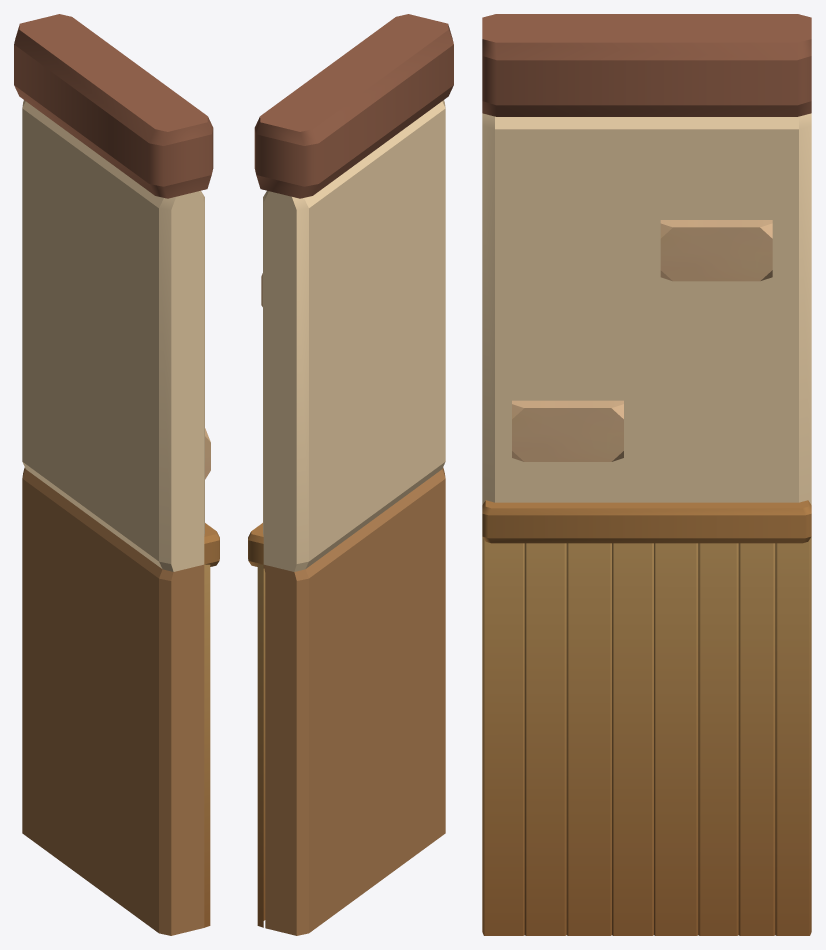
The model's file is Wall_B_17.glb.
The picture shows the model from 3 angles, left to right: view 1: azimuth 30°, elevation 25°; view 2: azimuth 150°, elevation 25°; view 3: azimuth 270°, elevation 25°; orthographic projection. The views are drawn at different scales.
Visible parts, largest first — view 1: Wall_B_17; view 2: Wall_B_17; view 3: Wall_B_17.
Part boxes in pixels (bbox=[...]): Wall_B_17: bbox=[14, 14, 219, 935]; Wall_B_17: bbox=[248, 14, 453, 935]; Wall_B_17: bbox=[482, 14, 811, 935].
Size of the model in its own units: 0.2676 by 3 by 1.
1 material, 1 textured.
